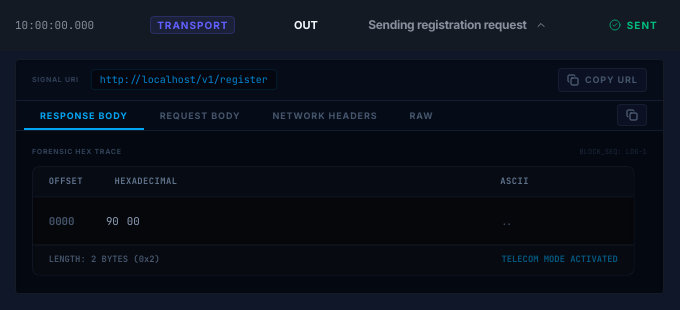
Scenario: LogItem Component › toggles tabs to show request body, headers, and raw content
Check: the text "Forensic Hex Trace" is shown, box 32,147 -> 122,158
Check: the text "90" is shown, box 106,212 -> 119,228
// Switch to Request Body
Click the button "Request Body".
click(200, 115)  # box 144,100 -> 256,130
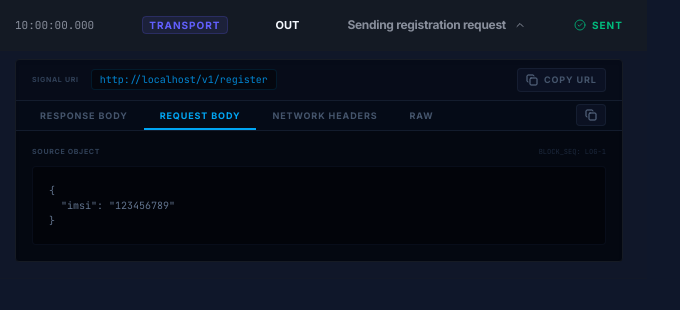
Check: the text "{ \"imsi\": \"123456789\" }" is shown, box 32,166 -> 606,244
// Switch to Network Headers
Click the button "Network Headers".
click(325, 115)  # box 256,100 -> 394,130
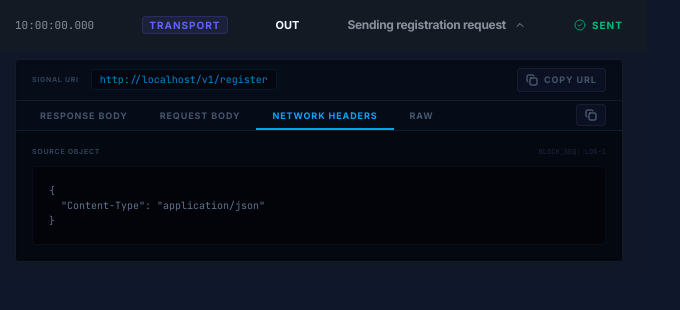
Check: the text "{ \"Content-Type\": \"application/json\" }" is shown, box 32,166 -> 606,244
// Switch to Raw
Click the button "Raw".
click(422, 115)  # box 394,100 -> 450,130
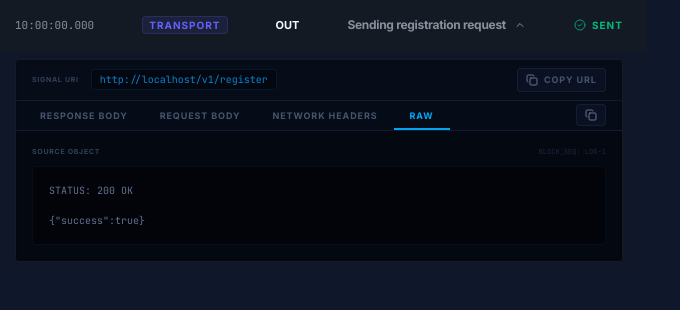
Check: the text "STATUS: 200 OK {\"success\":true}" is shown, box 32,166 -> 606,244
